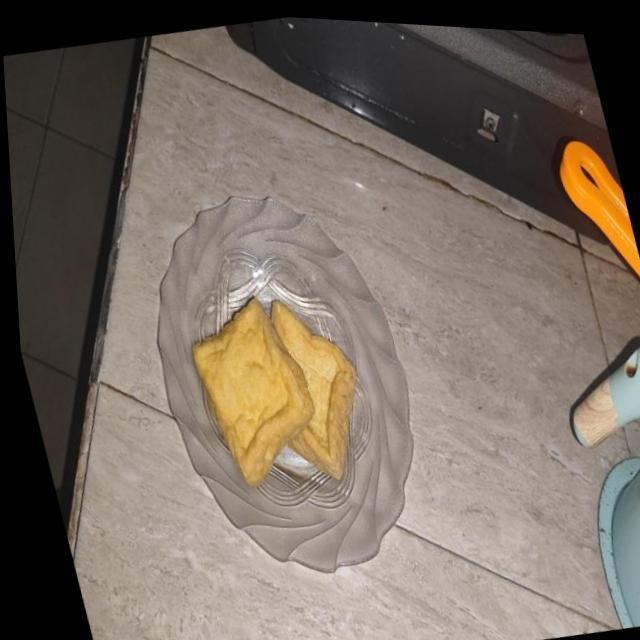tahu_goreng: (193, 298, 315, 486), (270, 301, 356, 479)
